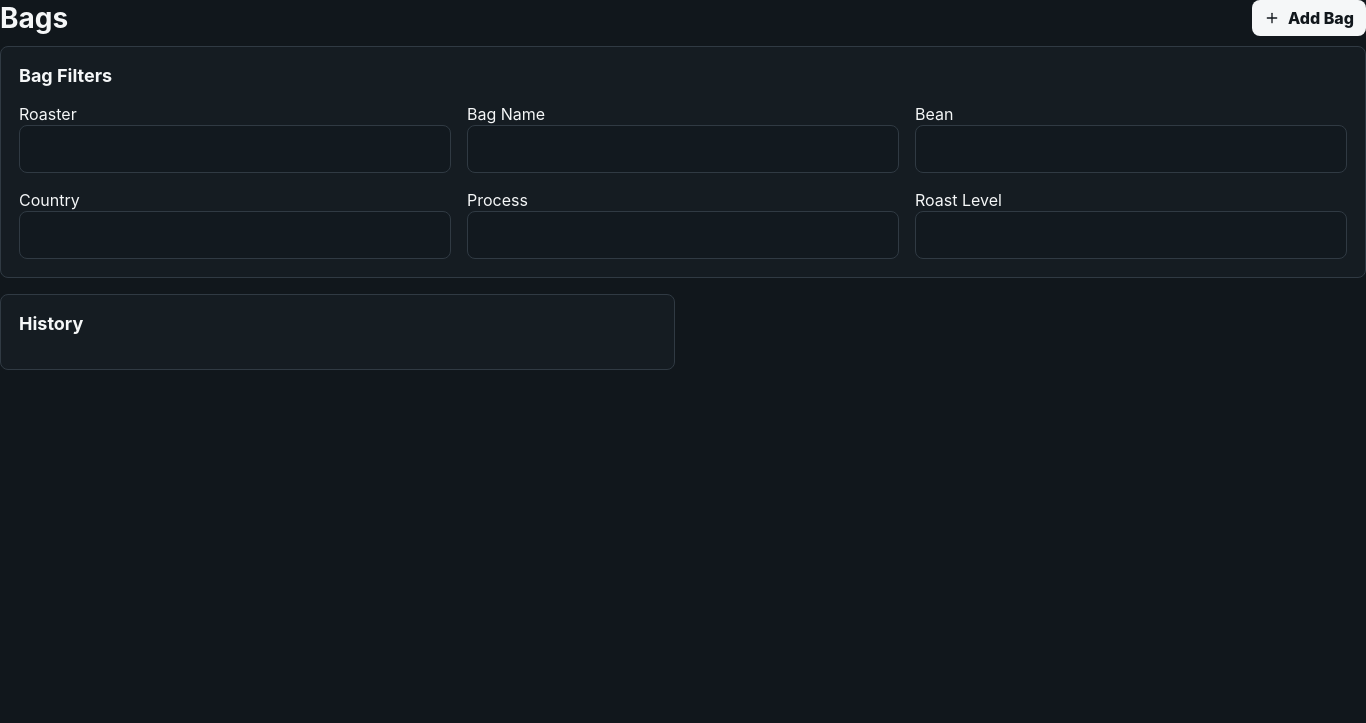
BagsPage › opens the add bag card with optional name and mandatory bag fields
Click the button "Add Bag". click: {"x": 1309, "y": 18}
box: [1252,0,1365,36]
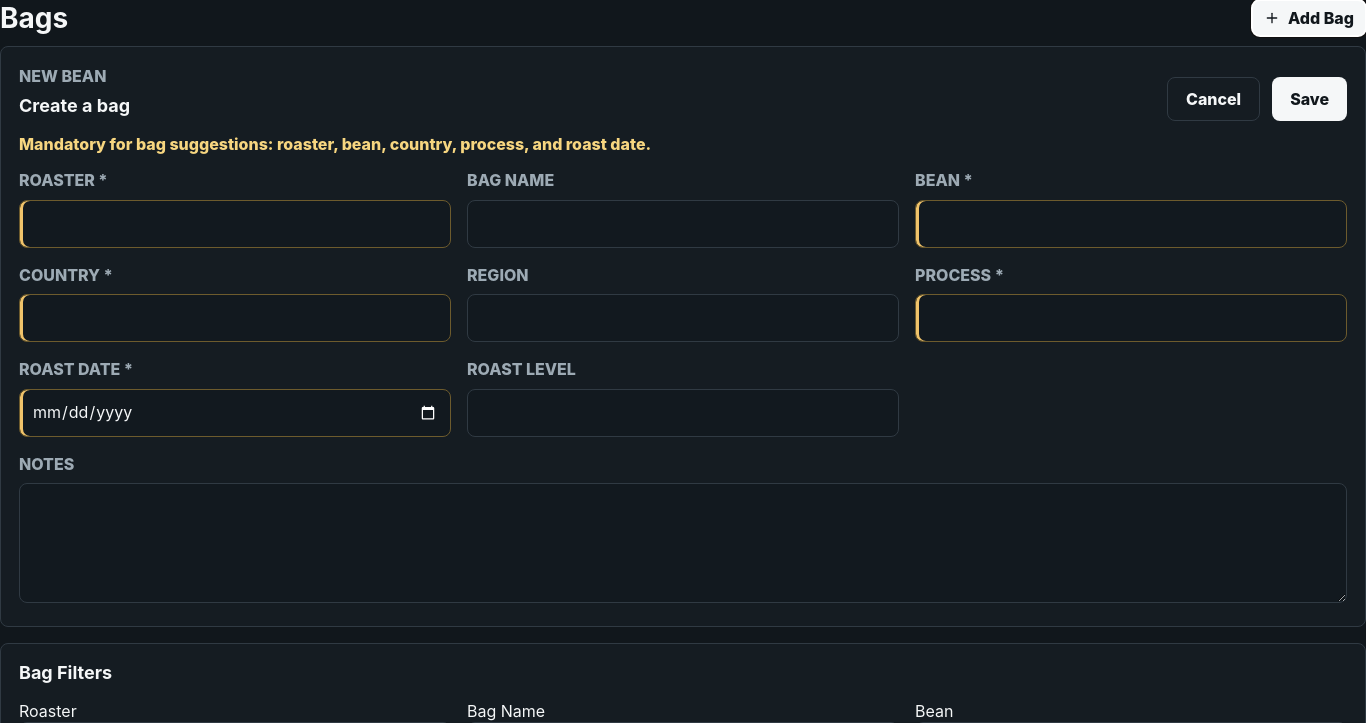
expect the heading "Create a bag" is shown: met, box [19,95,130,117]
expect the field labelled "Bag Name" below "Bean *" is shown: met, box [467,200,899,248]
expect the text "Roaster *" is shown: met, box [19,170,108,190]
